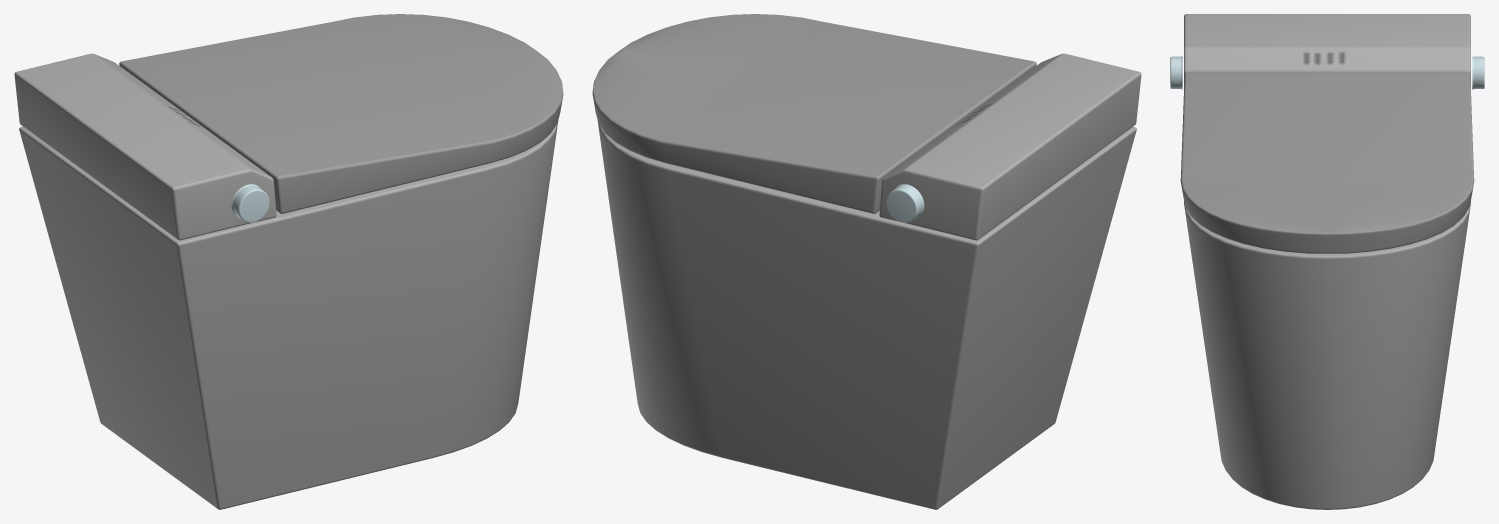
Rendered from visual_HighPoly_08_Toilet.dae.
The picture shows the model from 3 angles, left to right: view 1: azimuth 30°, elevation 25°; view 2: azimuth 150°, elevation 25°; view 3: azimuth 270°, elevation 25°; orthographic projection. The views are drawn at different scales.
Visible parts, largest first — view 1: SM_toilet_high; view 2: SM_toilet_high; view 3: SM_toilet_high.
Boxes of the visible parts, left/top/right/bottom form: SM_toilet_high: left=14, top=14, right=563, bottom=509; SM_toilet_high: left=592, top=14, right=1141, bottom=509; SM_toilet_high: left=1170, top=14, right=1484, bottom=509.
Bounding box in the file's own units: 59.95 × 40.93 × 45.64.
1 material, 1 textured.
